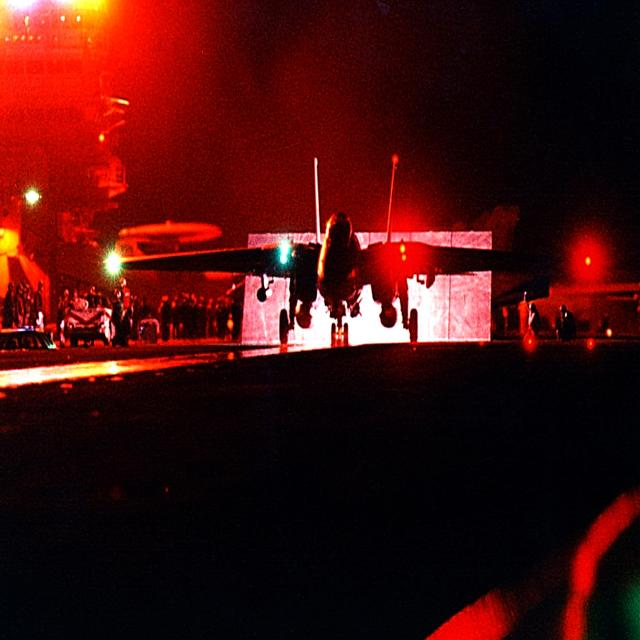MIL_Plane: (113, 156, 588, 347)
